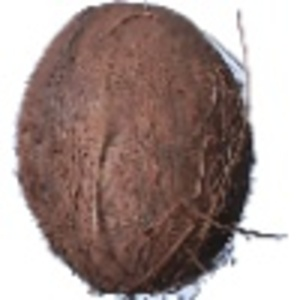coco: (14, 1, 286, 300)
